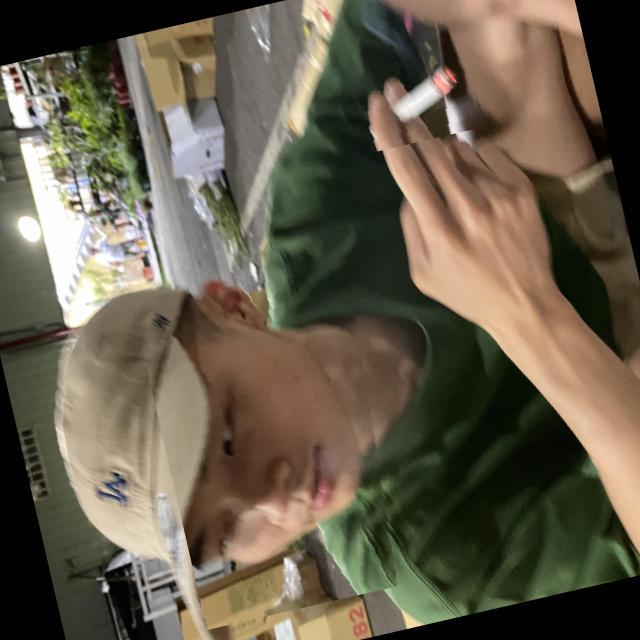cigarette: (338, 48, 486, 156)
